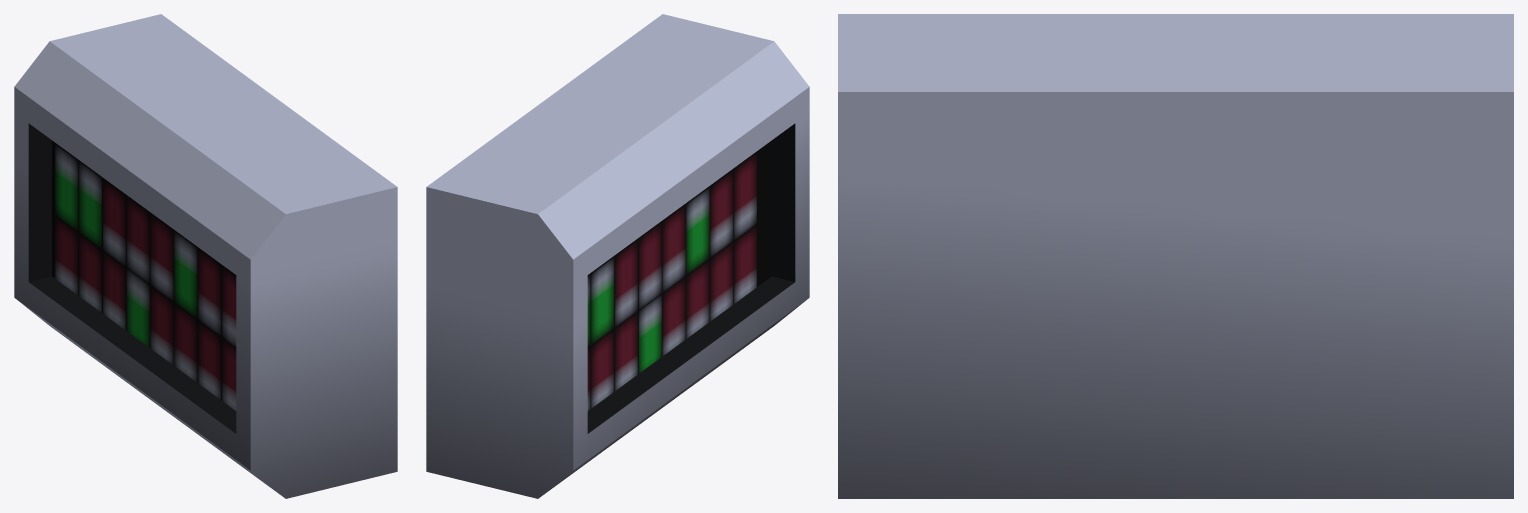
File: ElectricShieldMini.fbx
The picture shows the model from 3 angles, left to right: view 1: azimuth 30°, elevation 25°; view 2: azimuth 150°, elevation 25°; view 3: azimuth 270°, elevation 25°; orthographic projection. The views are drawn at different scales.
Parts seen in each view (by area): view 1: Куб.166; view 2: Куб.166; view 3: Куб.166.
Boxes of the visible parts, x1,y1,x2,y2 form: Куб.166: (14, 14, 397, 498); Куб.166: (426, 14, 809, 498); Куб.166: (838, 14, 1513, 498).
Size of the model in its own units: 34.61 by 64.1 by 96.44.
